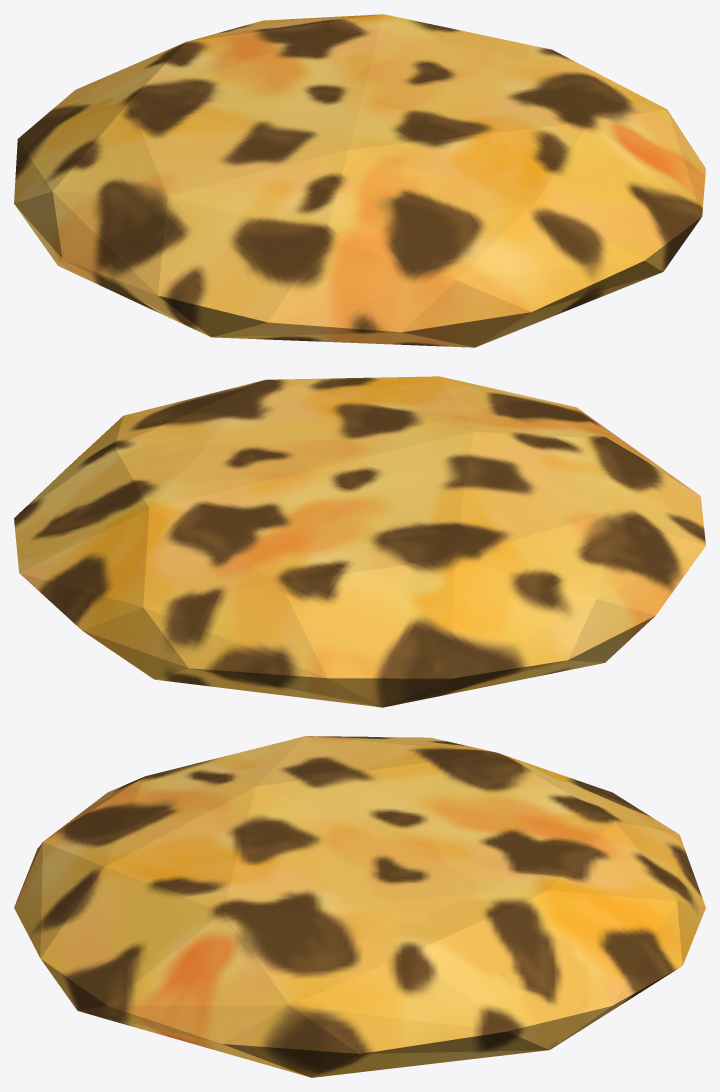
The model's file is Cookie.glb.
The picture shows the model from 3 angles, top to bottom: view 1: azimuth 30°, elevation 25°; view 2: azimuth 150°, elevation 25°; view 3: azimuth 270°, elevation 25°; orthographic projection.
Parts seen in each view (by area): view 1: Cookie; view 2: Cookie; view 3: Cookie.
Boxes of the visible parts, x1,y1,x2,y2 form: Cookie: (14,14,705,347); Cookie: (14,376,705,707); Cookie: (14,736,705,1077).
Size of the model in its own units: 1.42 by 0.2995 by 1.42.
Materials: 1 (1 with a texture image).
